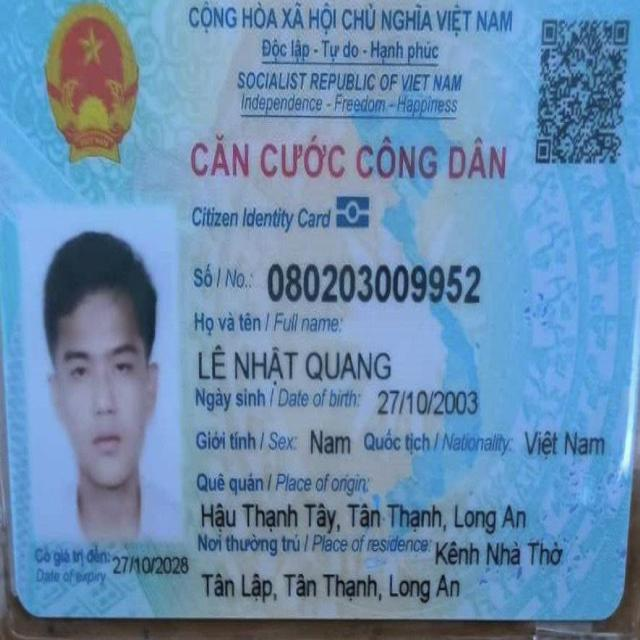current_place: (199, 565, 464, 607), (433, 536, 564, 571)
dob: (374, 386, 480, 420)
expire_date: (110, 551, 191, 579)
gender: (308, 426, 353, 459)
id: (264, 257, 485, 308)
name: (196, 341, 393, 388)
nationality: (523, 427, 606, 463)
origin_place: (199, 500, 529, 537)
qr: (534, 8, 636, 176)
